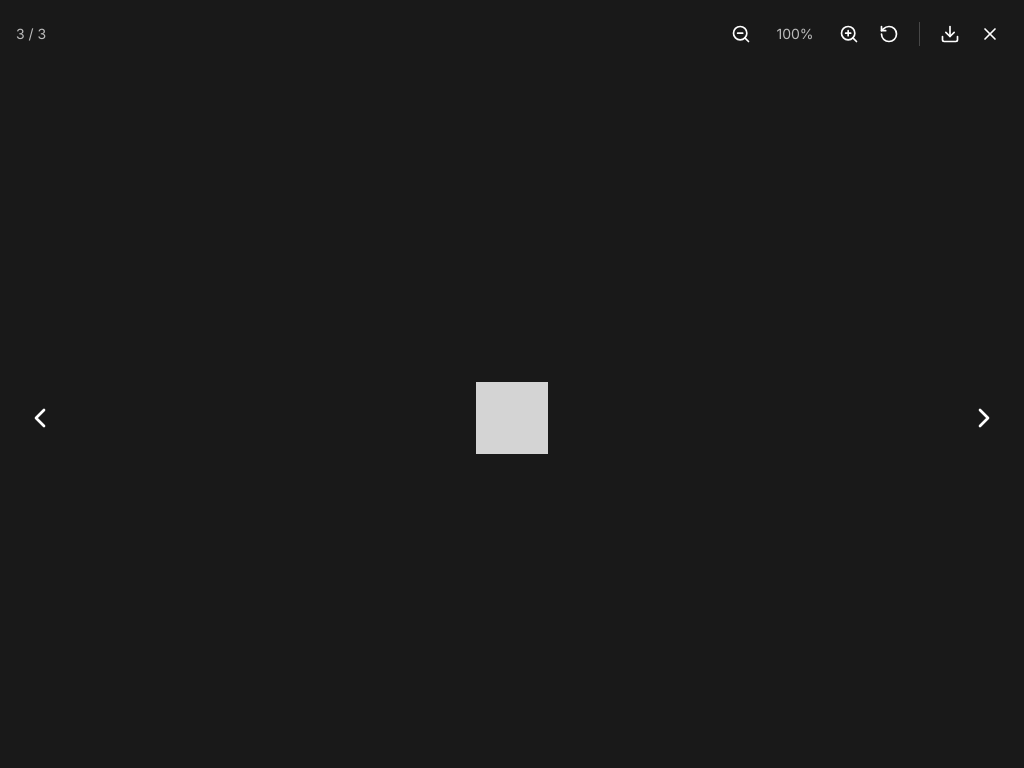
Scenario: ImageLightbox › navigation › should wrap to first image when next is clicked on last image
Click the button named "Next image". click: (984, 418)
box: [960,394,1008,442]
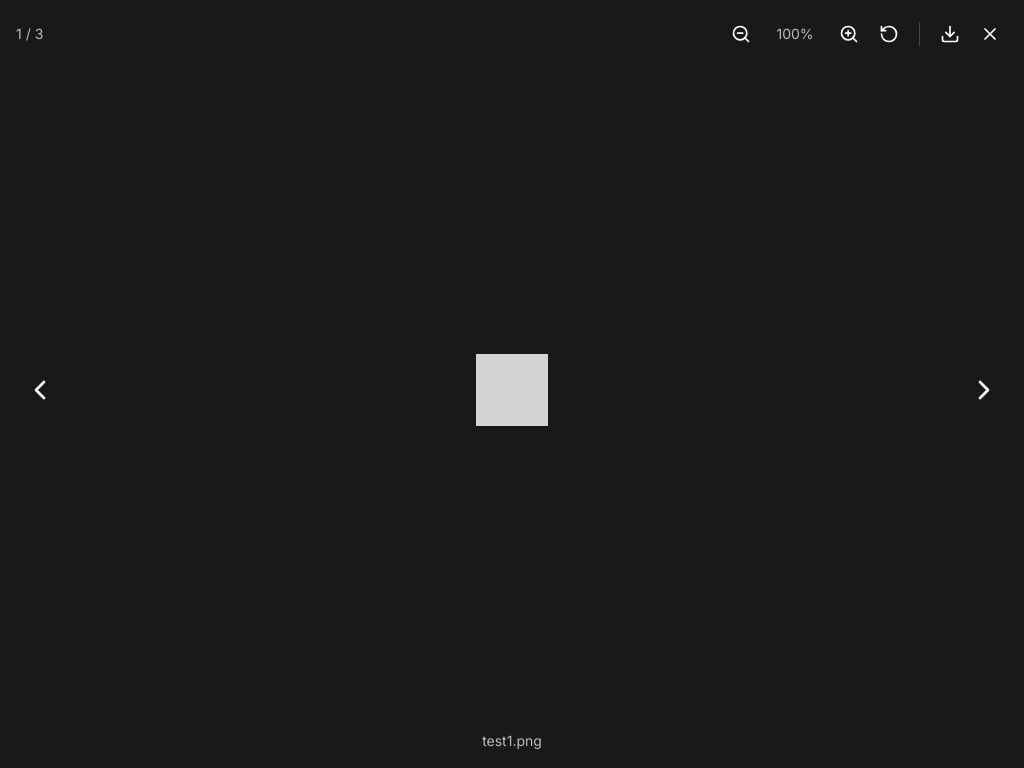
Expected: the text "1 / 3" is shown, [16,24,43,44]
